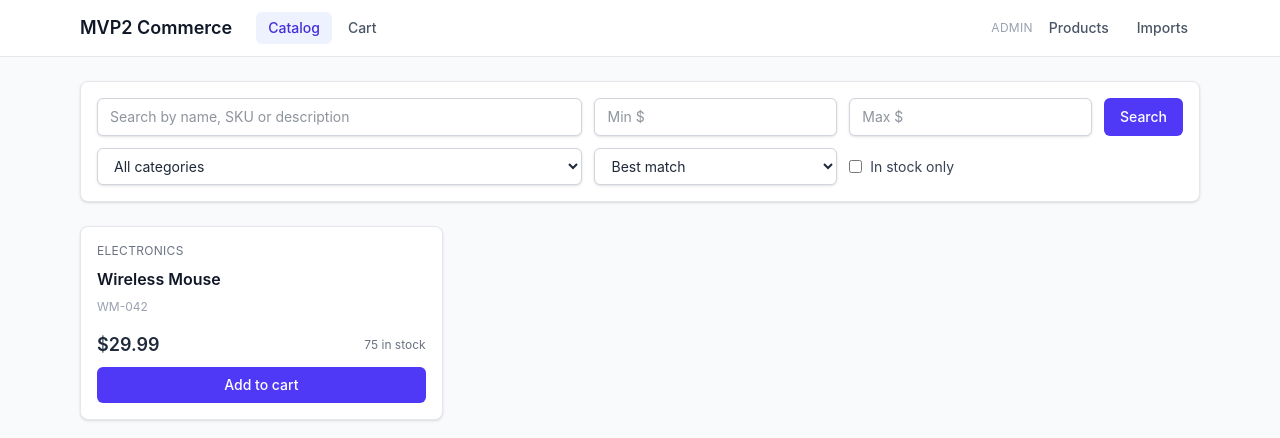
Scenario: catalog › confirms with a notification when a product is added to the cart
Click the button "Add to cart" at (261, 385), box [97,367,426,403]
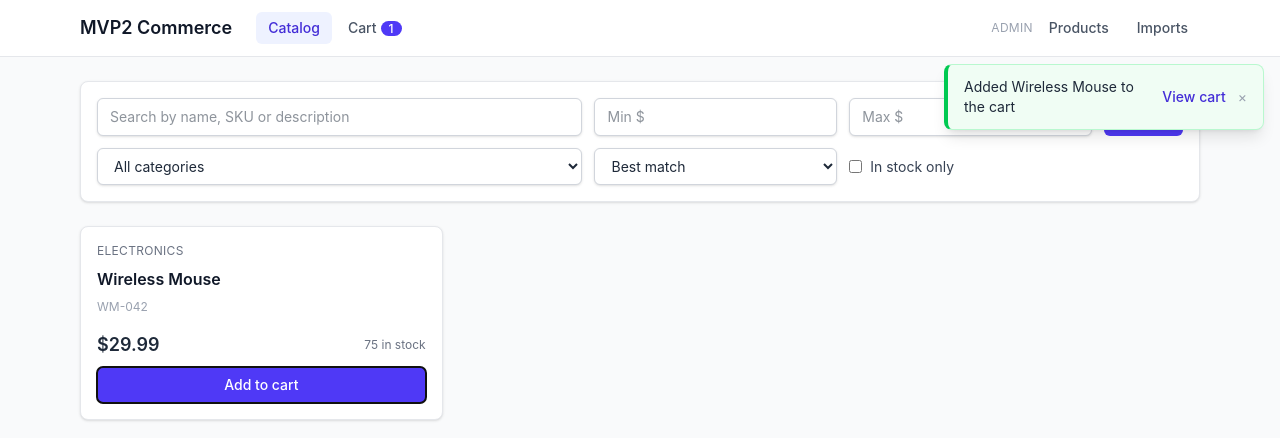
Expected: the text "Added Wireless Mouse to the cart" is shown, [964,77,1150,117]
Expected: the link "Cart1" is shown, [348,19,402,36]
Click the button named "Dismiss notification" at (1242, 97), box [1238,87,1247,107]
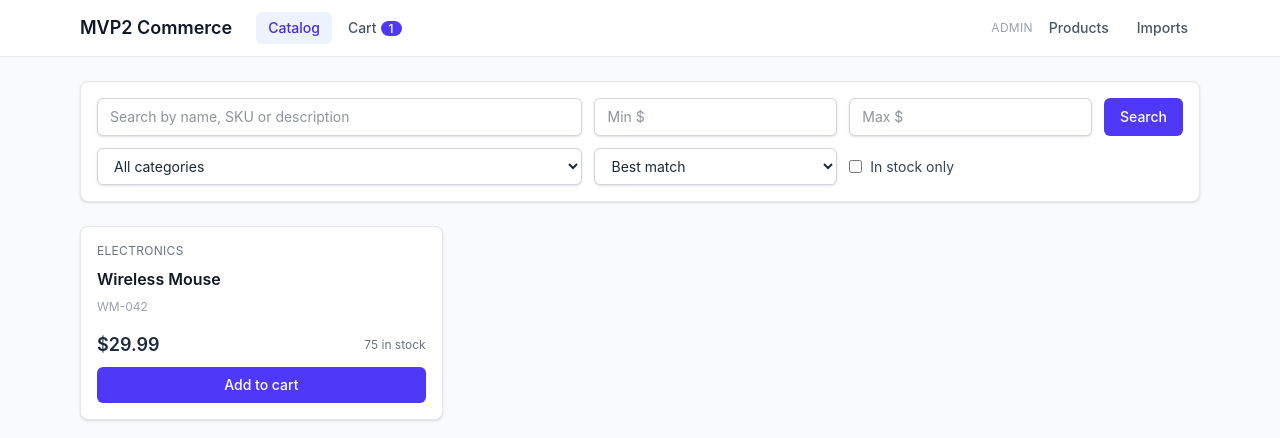
Expected: the text "Added Wireless Mouse to the cart" is gone
